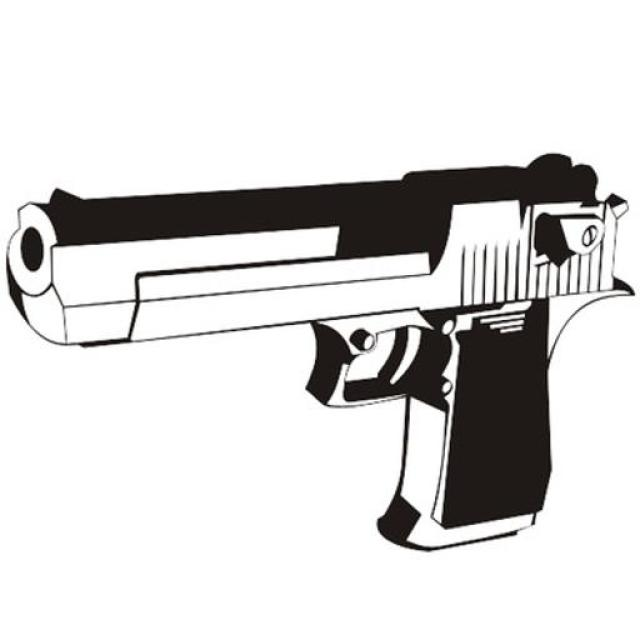pistol: (36, 124, 632, 544)
